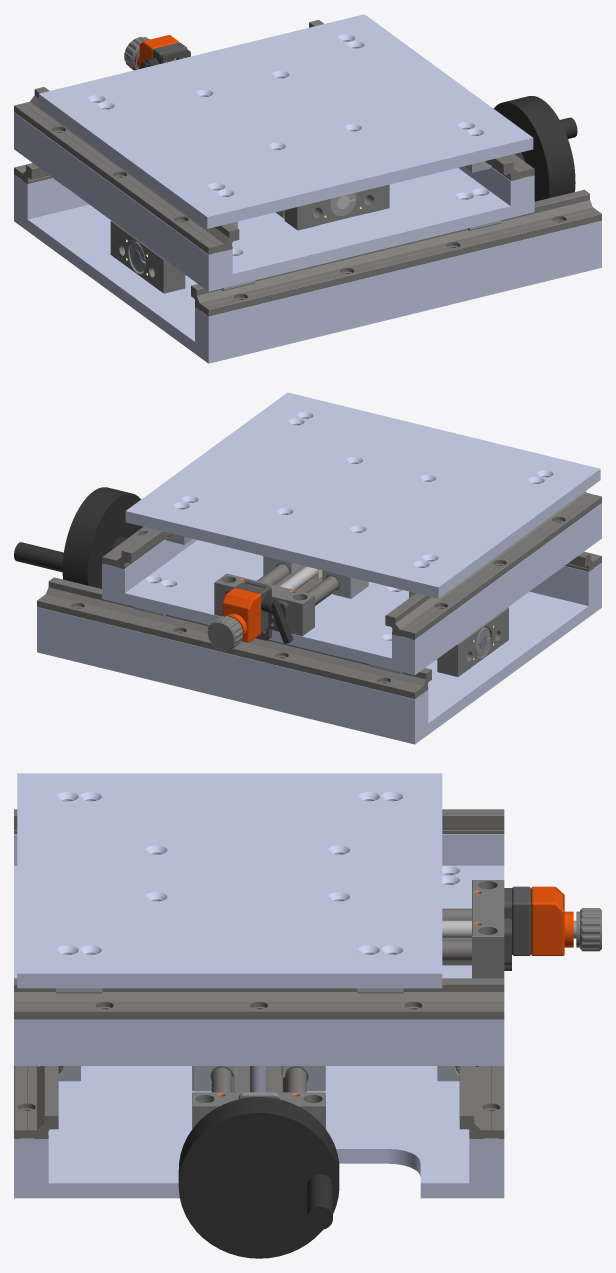
The model's file is XY_TableMove.glb.
3 views of the same model, one above another, from view 1: azimuth 30°, elevation 25°; view 2: azimuth 150°, elevation 25°; view 3: azimuth 270°, elevation 25° (orthographic). The views are drawn at different scales.
Visible parts, largest first — view 1: Plate Top-2, Plate Middle-1, Support beam-1, Plate Bottom-1, WSQ_16_444_5_2-1 (×2), 4inStroke-1, WSQ_16_381_1-1 (×2), PilowBlick-4, SLW_1660_20_76_PA_HK_HR_1-1, Support beam-3, PilowBlick-1; view 2: Plate Top-2, Plate Middle-1, Support beam-3, Plate Bottom-1, WSQ_16_444_5_2-1 (×2), 4inStroke-1, SLW_1660_20_76_PA_HK_HR_1-1, WSQ_16_381_1-1 (×2), PilowBlick-4, PilowBlick-1, Support beam-1, Movment-2; view 3: Plate Top-2, Plate Bottom-1, 4inStroke-1, WSQ_16_381_1-1 (×2), PilowBlick-1, SLW_1660_20_76_PA_HK_HR_1-1, Plate Middle-1, WSQ_16_444_5_2-1 (×2), PilowBlick-4, Support beam-3, Support beam-1, Movment-1.
Part boxes in pixels (<box>): Plate Top-2: <box>38,14,533,228</box>; Plate Middle-1: <box>14,138,534,291</box>; Support beam-1: <box>195,220,601,351</box>; Plate Bottom-1: <box>14,204,601,363</box>; WSQ_16_444_5_2-1 (×2): <box>14,163,601,316</box>; 4inStroke-1: <box>110,96,577,293</box>; WSQ_16_381_1-1 (×2): <box>14,20,534,254</box>; PilowBlick-4: <box>14,112,232,279</box>; SLW_1660_20_76_PA_HK_HR_1-1: <box>124,35,389,230</box>; Support beam-3: <box>14,174,88,219</box>; PilowBlick-1: <box>458,166,534,205</box>; Plate Top-2: <box>125,392,600,598</box>; Plate Middle-1: <box>102,527,601,675</box>; Support beam-3: <box>37,607,428,733</box>; Plate Bottom-1: <box>37,591,601,744</box>; WSQ_16_444_5_2-1 (×2): <box>37,551,601,698</box>; 4inStroke-1: <box>14,487,508,676</box>; SLW_1660_20_76_PA_HK_HR_1-1: <box>207,564,338,651</box>; WSQ_16_381_1-1 (×2): <box>102,491,601,639</box>; PilowBlick-4: <box>392,503,601,663</box>; PilowBlick-1: <box>102,538,196,593</box>; Support beam-1: <box>530,563,601,605</box>; Movment-2: <box>263,556,368,598</box>; Plate Top-2: <box>17,773,442,988</box>; Plate Bottom-1: <box>14,1066,504,1198</box>; 4inStroke-1: <box>178,1066,339,1258</box>; WSQ_16_381_1-1 (×2): <box>14,809,504,1019</box>; PilowBlick-1: <box>14,1019,504,1051</box>; SLW_1660_20_76_PA_HK_HR_1-1: <box>442,880,601,978</box>; Plate Middle-1: <box>14,865,504,1065</box>; WSQ_16_444_5_2-1 (×2): <box>14,1066,504,1138</box>; PilowBlick-4: <box>14,834,504,865</box>; Support beam-3: <box>469,1138,504,1183</box>; Support beam-1: <box>14,1138,48,1183</box>; Movment-1: <box>192,1066,325,1091</box>.
Bounding box in the file's own units: 0.5485 × 0.1885 × 0.457.
